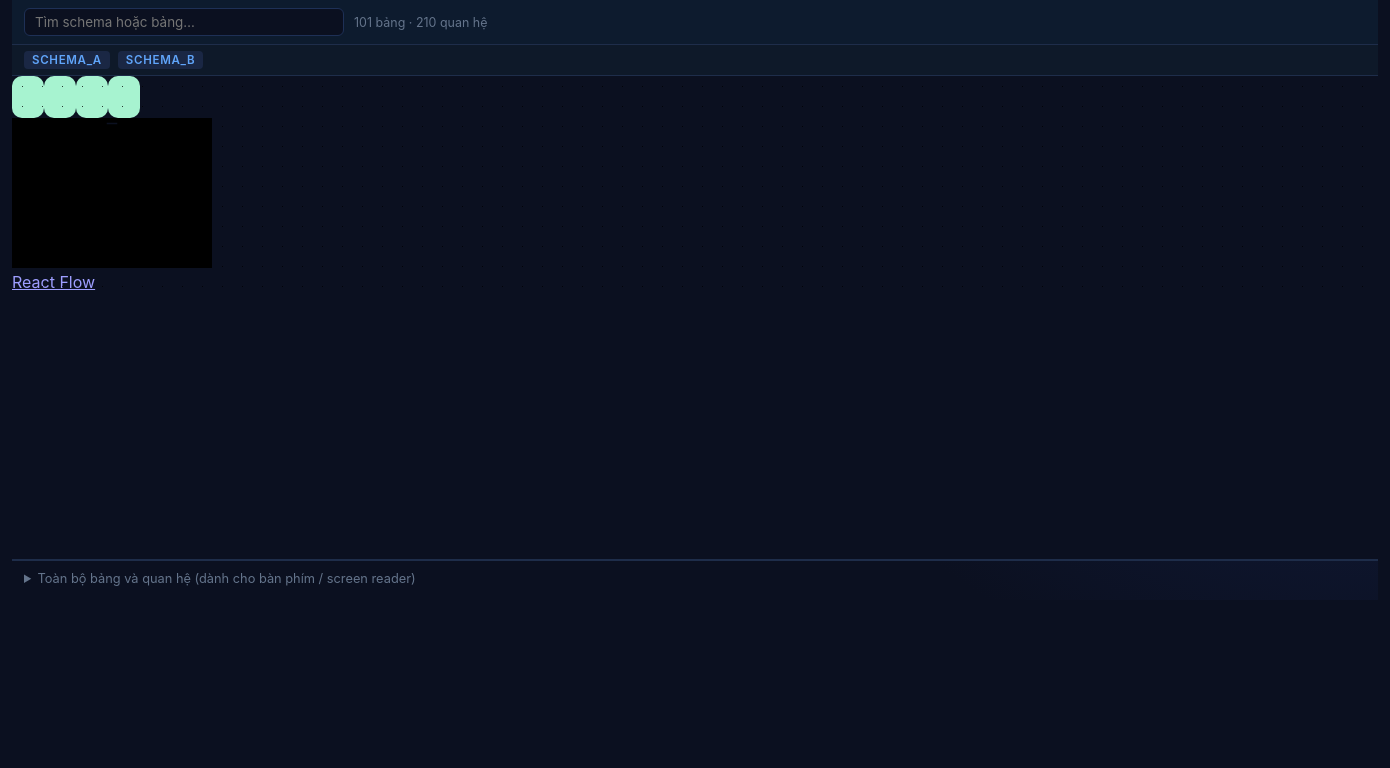
FullErd › restores the complete 101-relation and 210-edge projection after clearing search
Type "table_007" into the search field.
click(184, 22); type("table_007")  # box [24,8,344,36]
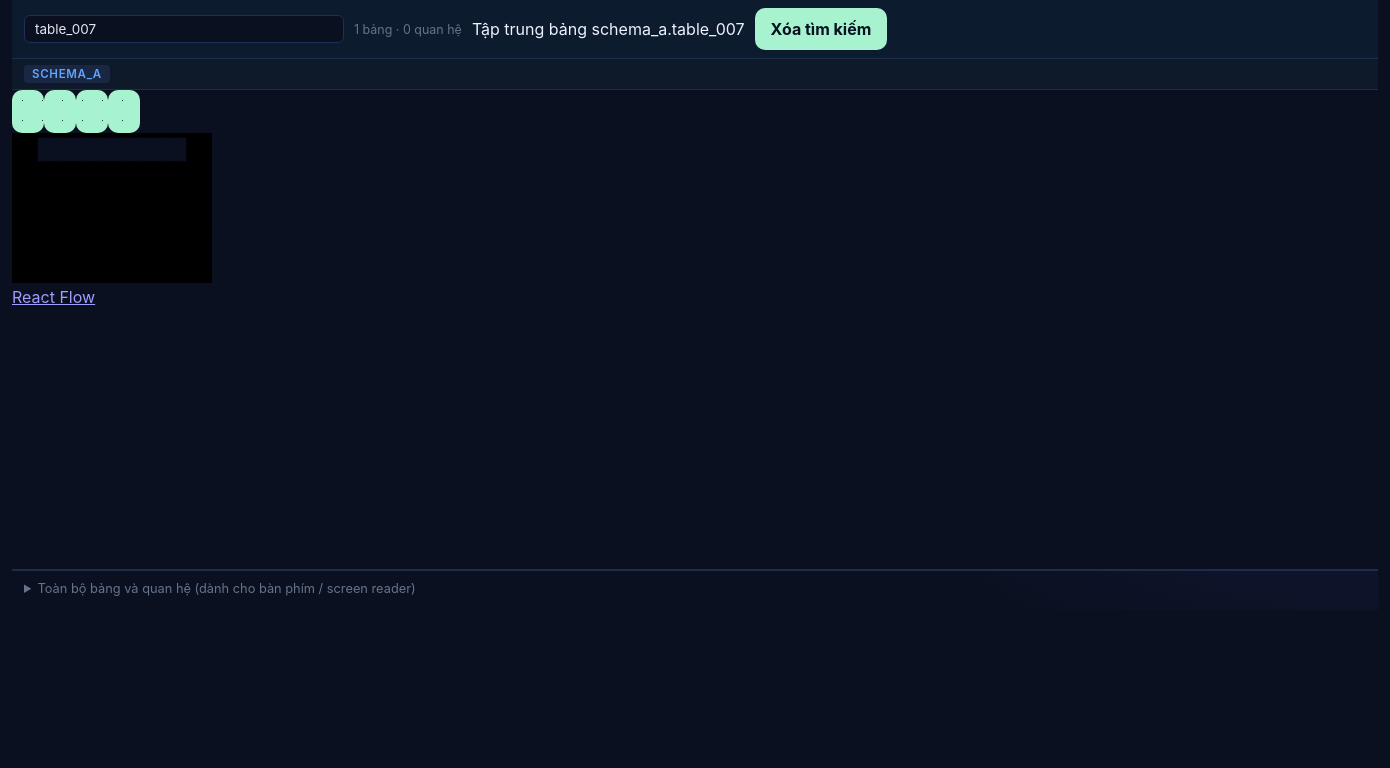
Expected: the text "1 bảng · 0 quan hệ" is shown, [354,22,462,37]
Click the button "Xóa tìm kiếm".
click(821, 29)  # box [755,8,887,50]
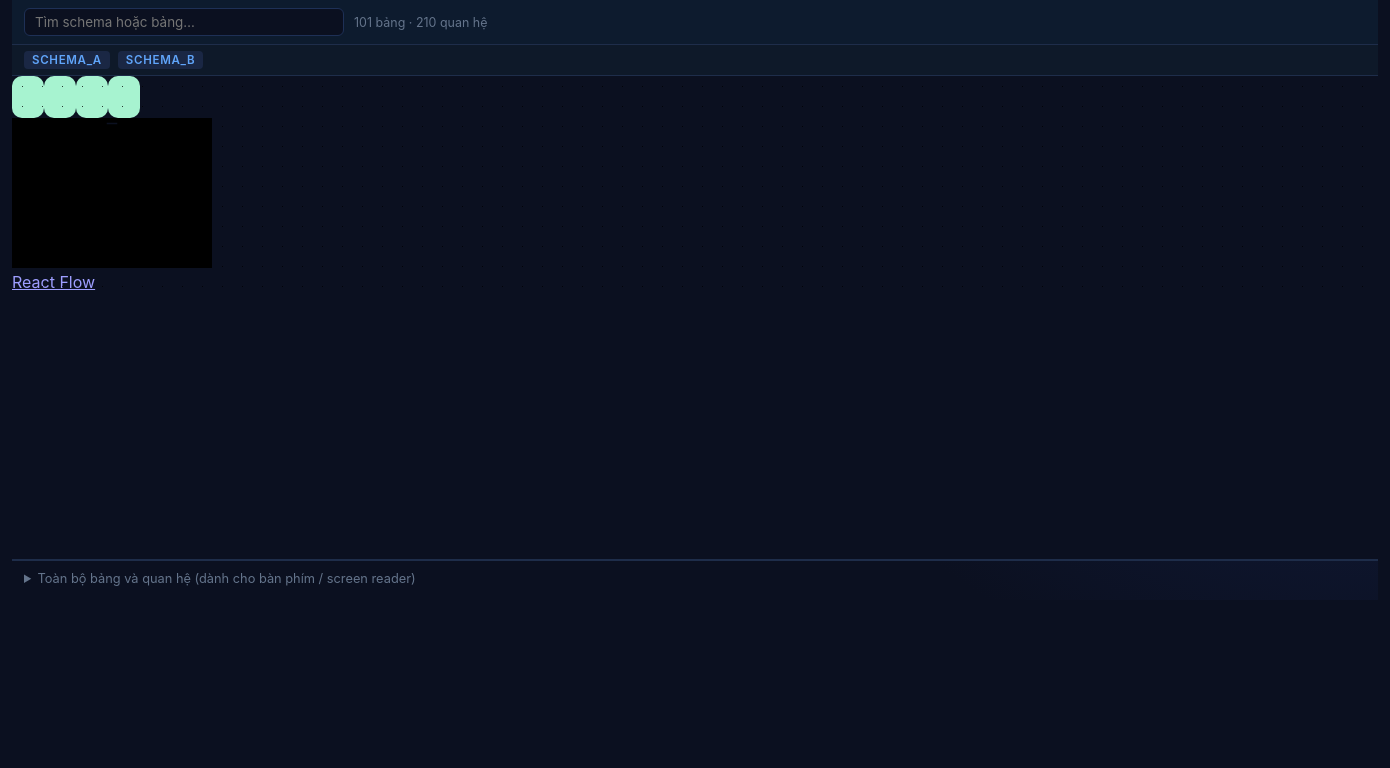
Expected: the text "101 bảng · 210 quan hệ" is shown, [354,14,488,30]
